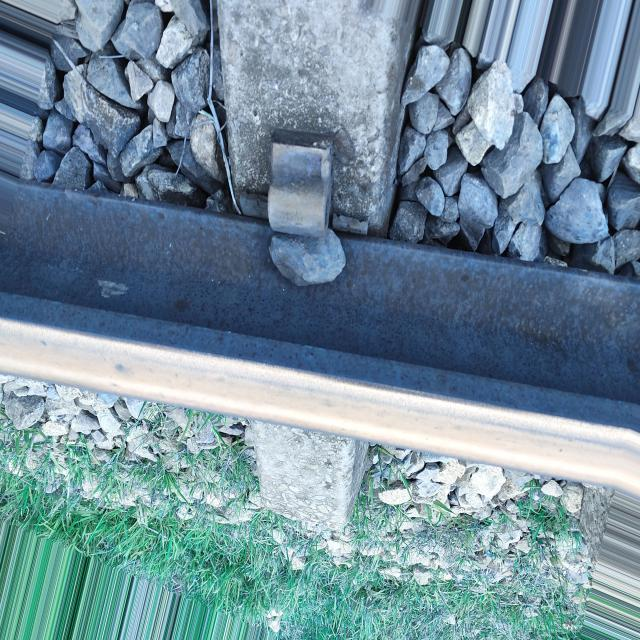Missing Fastener: (260, 126, 356, 244)
